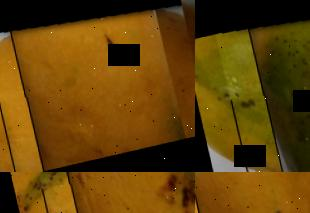PartiallyRipe: (212, 0, 310, 172)
Ripe: (0, 0, 195, 172), (23, 172, 195, 213), (195, 172, 310, 213)
